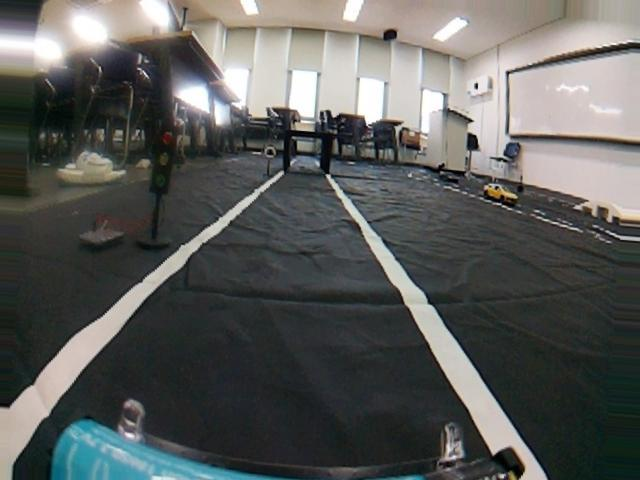green_light: (149, 119, 177, 200)
sign_tunnel: (265, 144, 277, 159)
straight: (0, 154, 640, 480)
